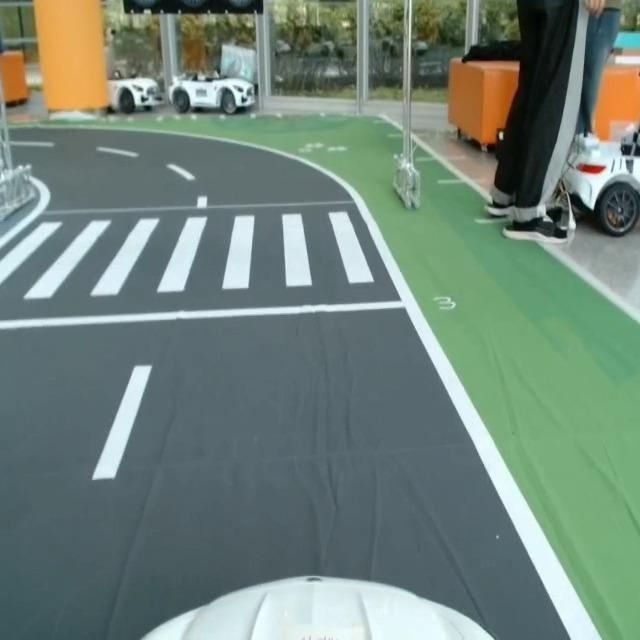traffic-light: (114, 0, 273, 18)
